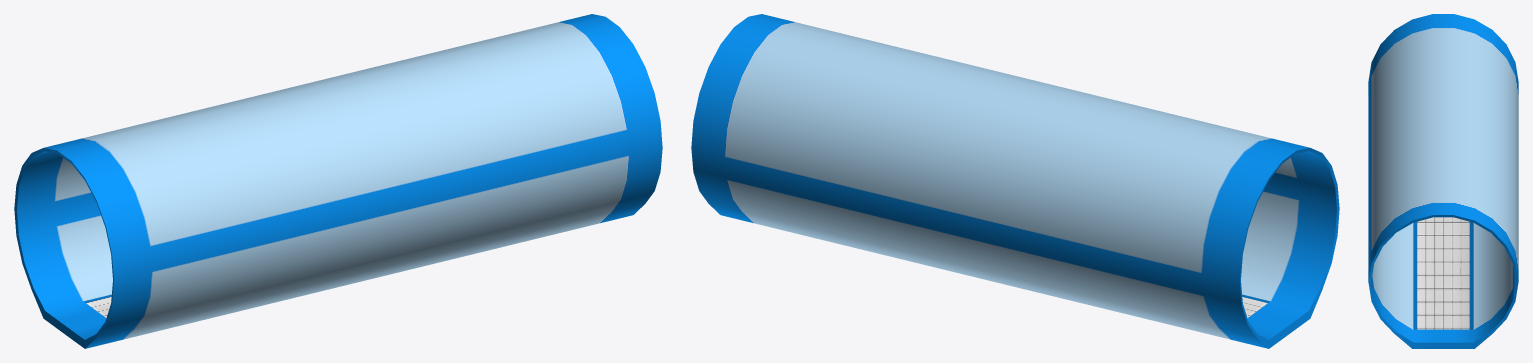
File: FUT0110019.fbx
The picture shows the model from 3 angles, left to right: view 1: azimuth 30°, elevation 25°; view 2: azimuth 150°, elevation 25°; view 3: azimuth 270°, elevation 25°; orthographic projection. The views are drawn at different scales.
Visible parts, largest first — view 1: smFUT0110019; view 2: smFUT0110019; view 3: smFUT0110019.
Boxes of the visible parts, x1=… form: smFUT0110019: x1=14, y1=14, x2=662, y2=348; smFUT0110019: x1=691, y1=14, x2=1339, y2=348; smFUT0110019: x1=1368, y1=14, x2=1518, y2=348.
Size of what is drawn, in the model's own units: 680 by 211 by 215.
Materials: 1 (1 with a texture image).
